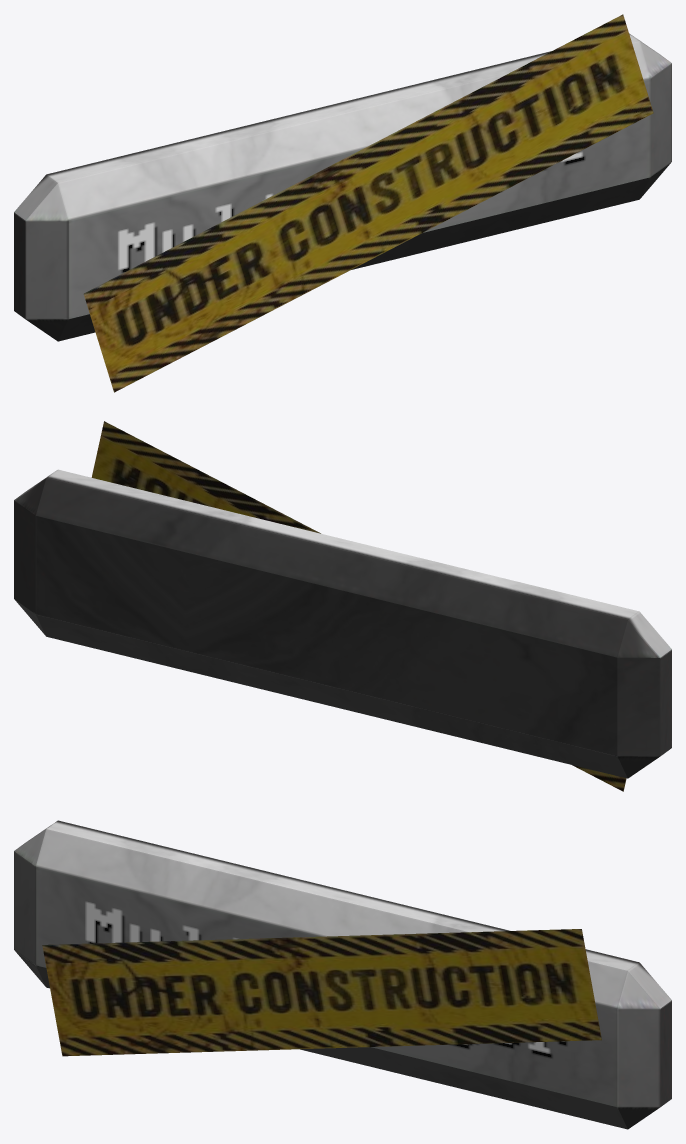
The model's file is menubuttonbottomUC.glb.
3 renders of one model, top to bottom at view 1: azimuth 30°, elevation 25°; view 2: azimuth 150°, elevation 25°; view 3: azimuth 330°, elevation 25°, orthographic.
Parts seen in each view (by area): view 1: Plane; view 2: Plane; view 3: Plane.
Part boxes in pixels (x1,y1,x2,y2): Plane: [14, 14, 671, 392]; Plane: [14, 421, 671, 791]; Plane: [14, 820, 671, 1129].
Bounding box in the file's own units: 2 × 0.7367 × 0.2263.
2 materials, 2 textured.
